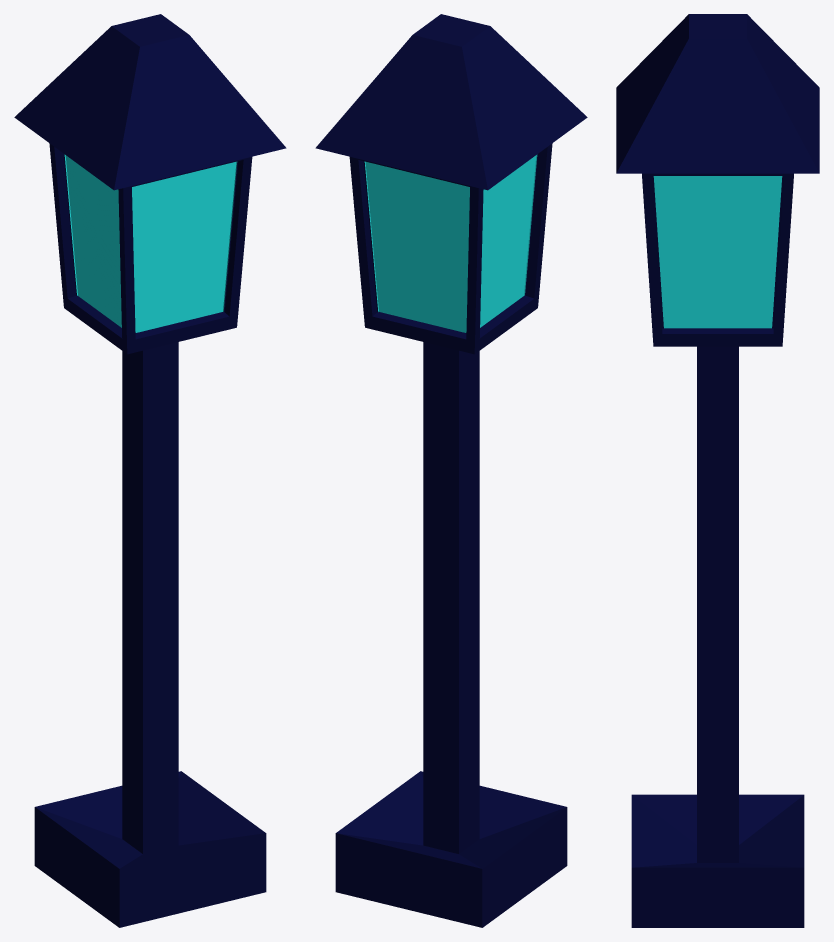
File: fonar_S_Osnovoy.fbx
3 renders of one model, left to right at view 1: azimuth 30°, elevation 25°; view 2: azimuth 150°, elevation 25°; view 3: azimuth 270°, elevation 25°, orthographic.
Visible parts, largest first — view 1: Cube; view 2: Cube; view 3: Cube.
Part boxes in pixels (x1,y1,x2,y2): Cube: [14, 14, 286, 927]; Cube: [315, 14, 587, 927]; Cube: [616, 14, 819, 927].
Size of the model in its own units: 265 by 1242 by 265.
